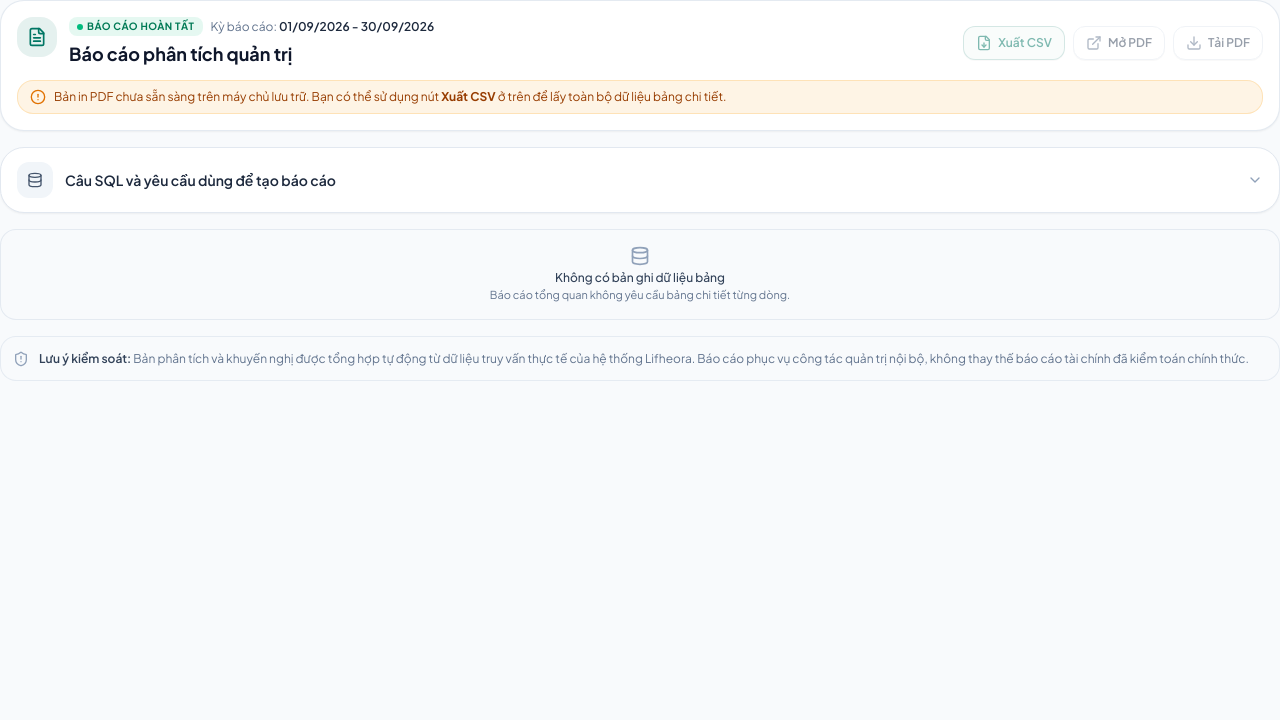
Test case: ReportAssistantPreview SQL reveal › reveals SQL on demand and toggles visibility without refetching
Click the heading "Câu SQL và yêu cầu dùng để tạo báo cáo" at (35, 180), box [17, 162, 1263, 198]
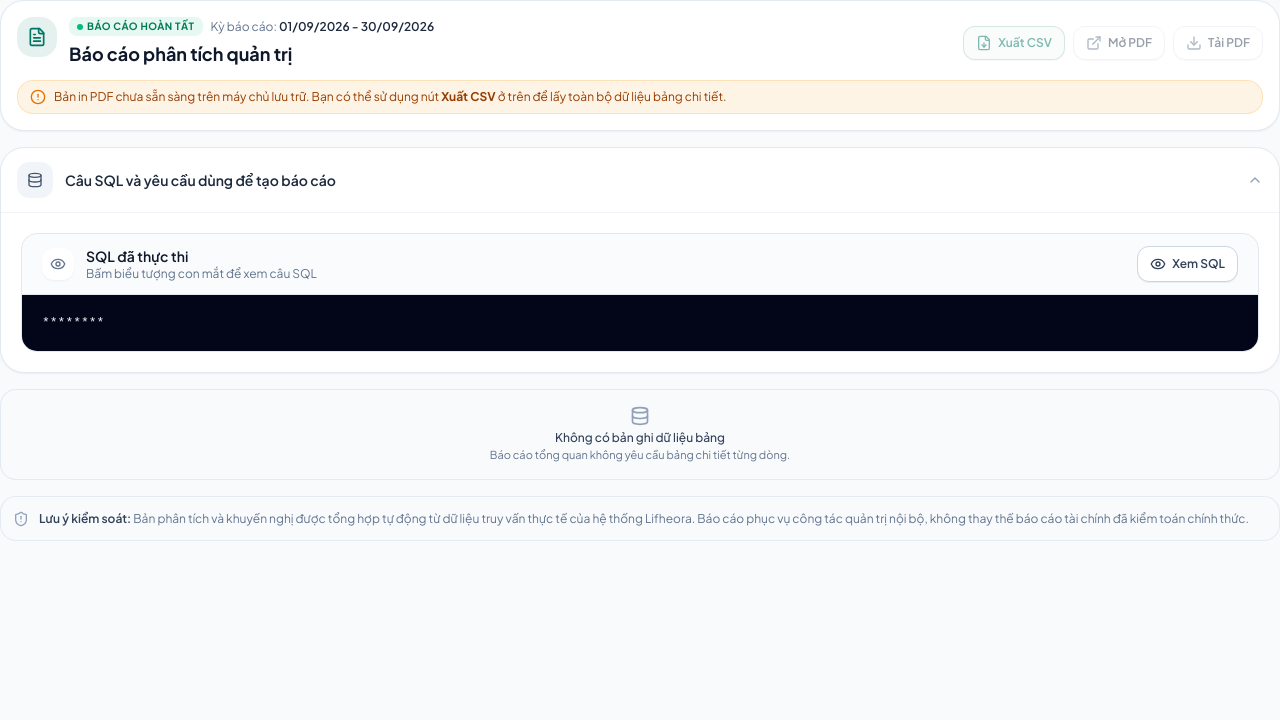
Expected: the text "SELECT status FROM chatbot_report_appointments_view LIMIT 1" is not shown
Result: the text "********" is shown at [42, 315, 104, 330]
Click the button "Xem SQL" at (1188, 264), box [1137, 246, 1238, 282]
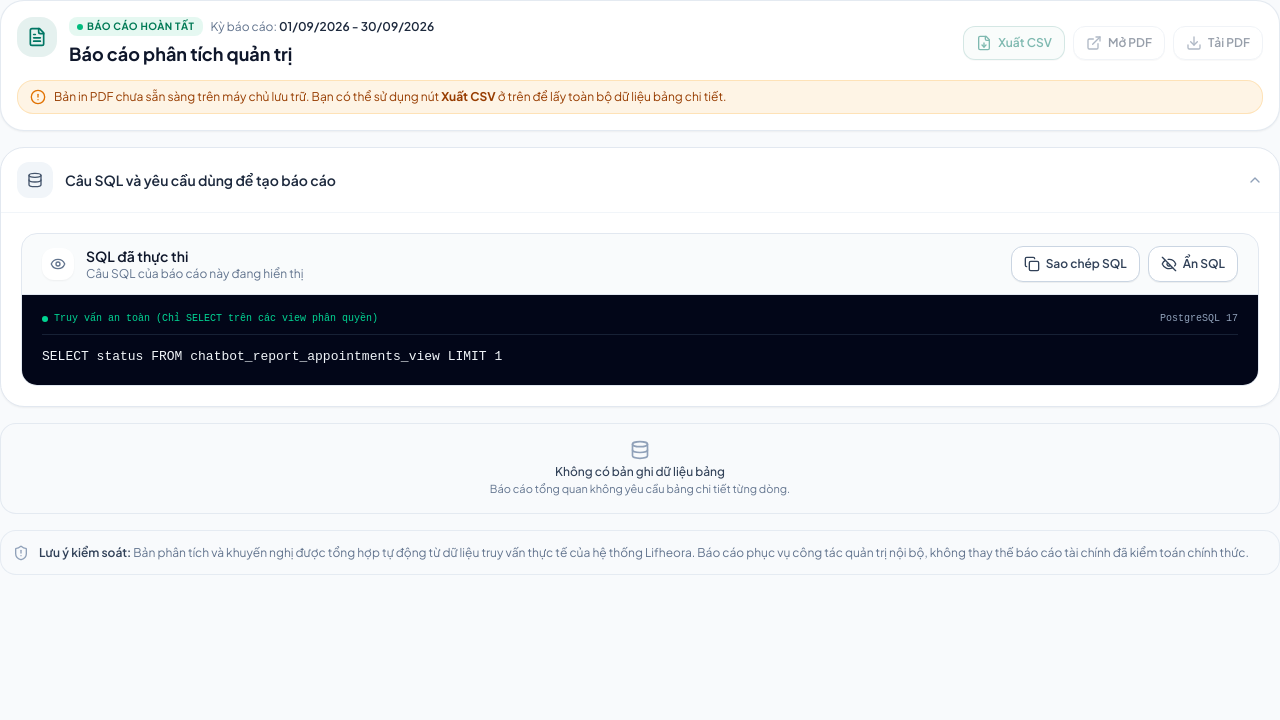
Result: the text "SELECT status FROM chatbot_report_appointments_view LIMIT 1" is shown at [42, 349, 502, 364]
Result: the button "Sao chép SQL" is shown at [1011, 246, 1140, 282]
Result: the text "********" is gone
Click the button "Ẩn SQL" at (1193, 264), box [1148, 246, 1238, 282]
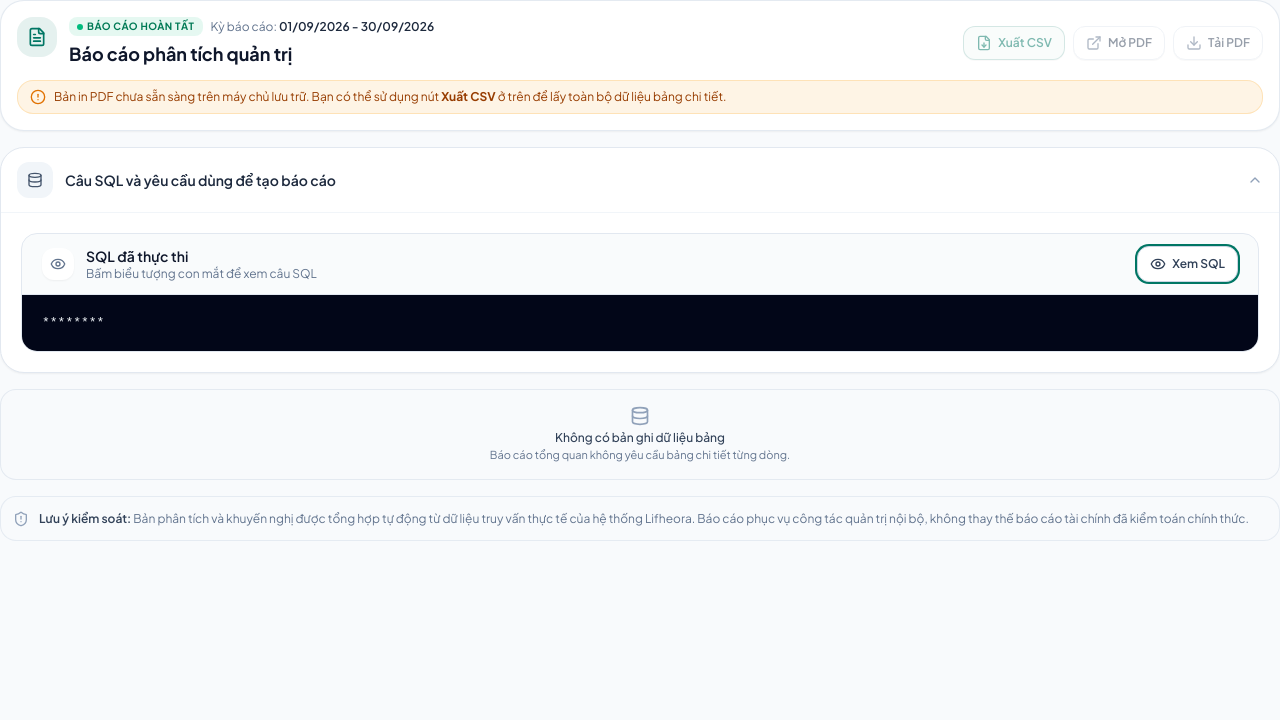
Result: the text "SELECT status FROM chatbot_report_appointments_view LIMIT 1" is gone
Result: the text "********" is shown at [42, 315, 104, 330]
Click the button "Xem SQL" at (1188, 264), box [1137, 246, 1238, 282]
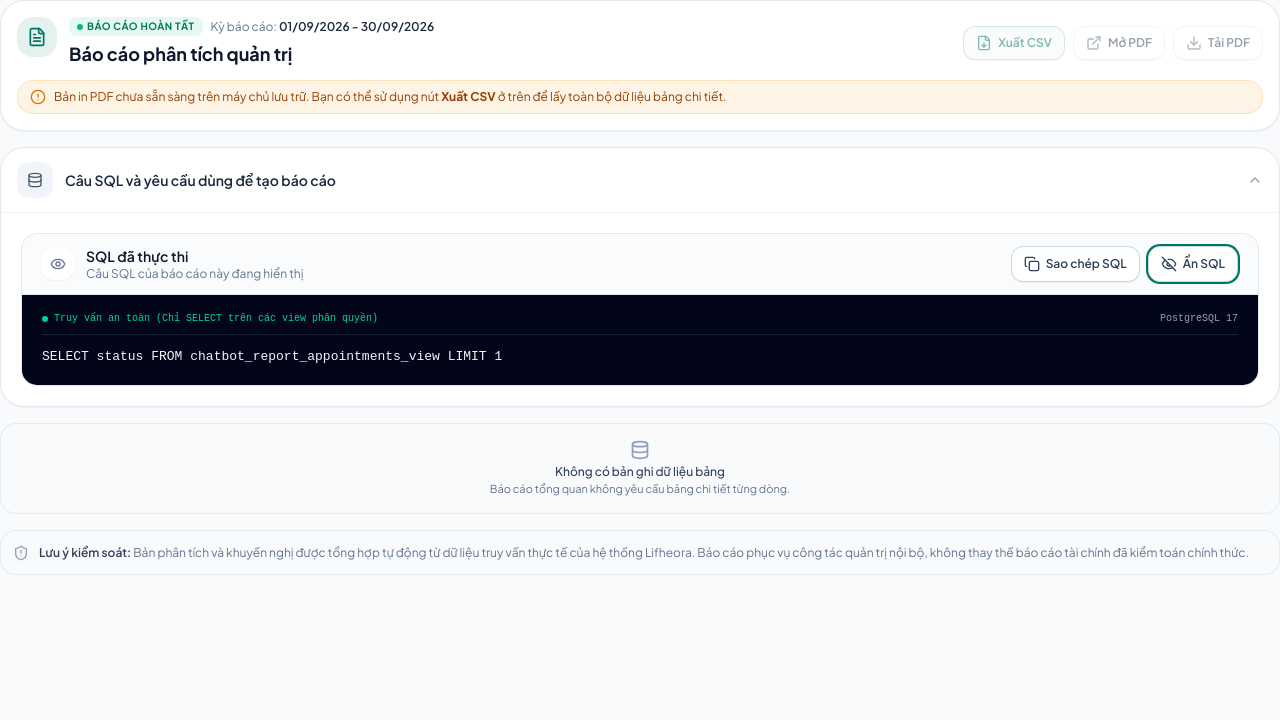
Result: the text "SELECT status FROM chatbot_report_appointments_view LIMIT 1" is shown at [42, 349, 502, 364]
